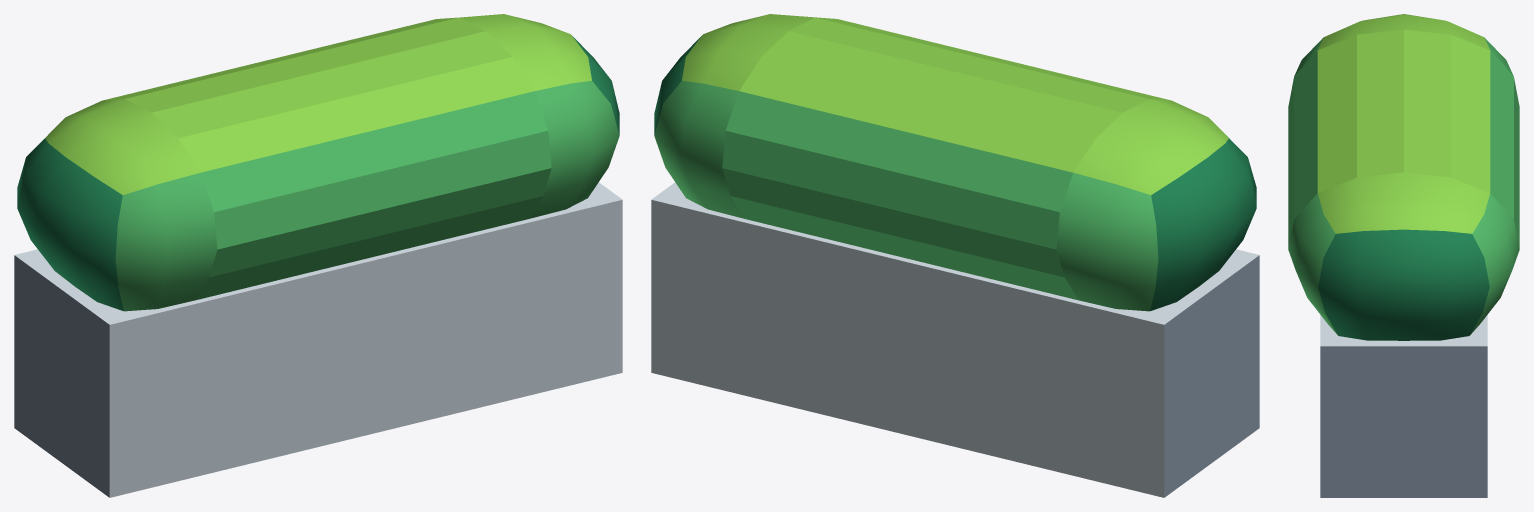
Rendered from wideHedge.fbx.
3 renders of one model, left to right at view 1: azimuth 30°, elevation 25°; view 2: azimuth 150°, elevation 25°; view 3: azimuth 270°, elevation 25°, orthographic. The views are drawn at different scales.
Parts seen in each view (by area): view 1: reaf, box; view 2: reaf, box; view 3: reaf, box.
Part boxes in pixels (x1,y1,x2,y2): reaf: (17, 14, 619, 311); box: (14, 182, 622, 497); reaf: (654, 14, 1256, 311); box: (651, 182, 1259, 497); reaf: (1288, 14, 1519, 340); box: (1320, 315, 1487, 497).
Size of the model in its own units: 108 by 60.44 by 44.07.
Materials: 1 (1 with a texture image).
